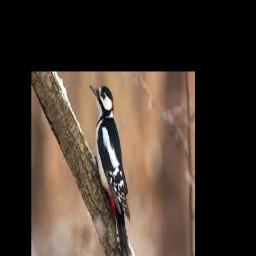Woodpecker: (89, 84, 130, 256)
